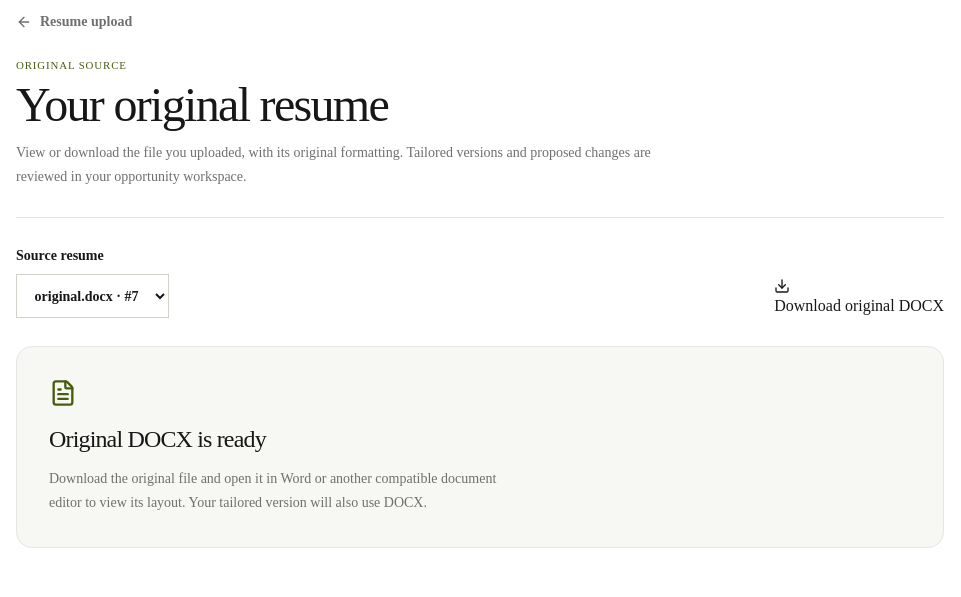
Test: direct denial is visible and never retries or falls back
Click the button "Download original DOCX" at (859, 298), box [774,278,944,318]
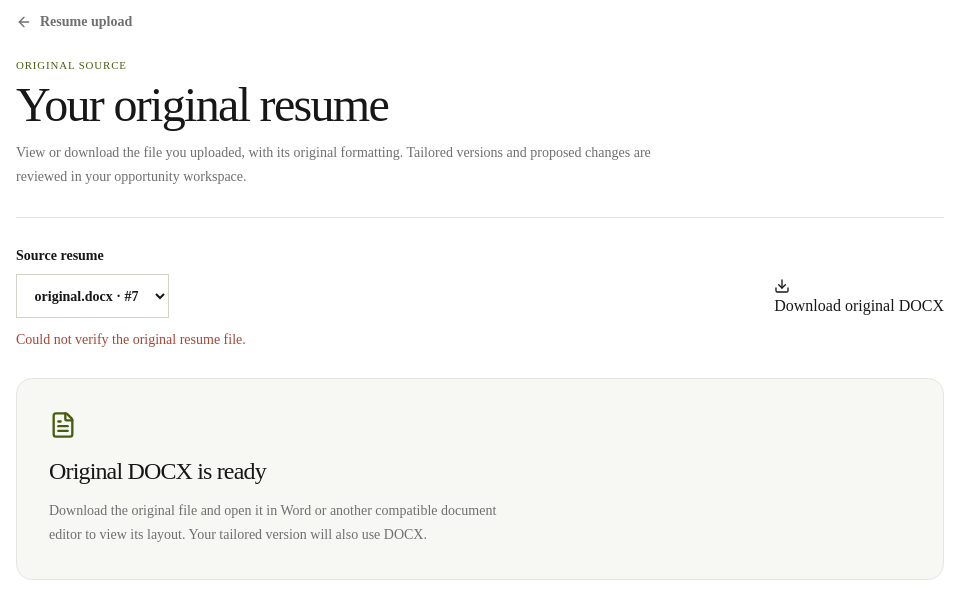
Check: the message "Could not verify the original resume file." is shown, box [16,332,246,347]
